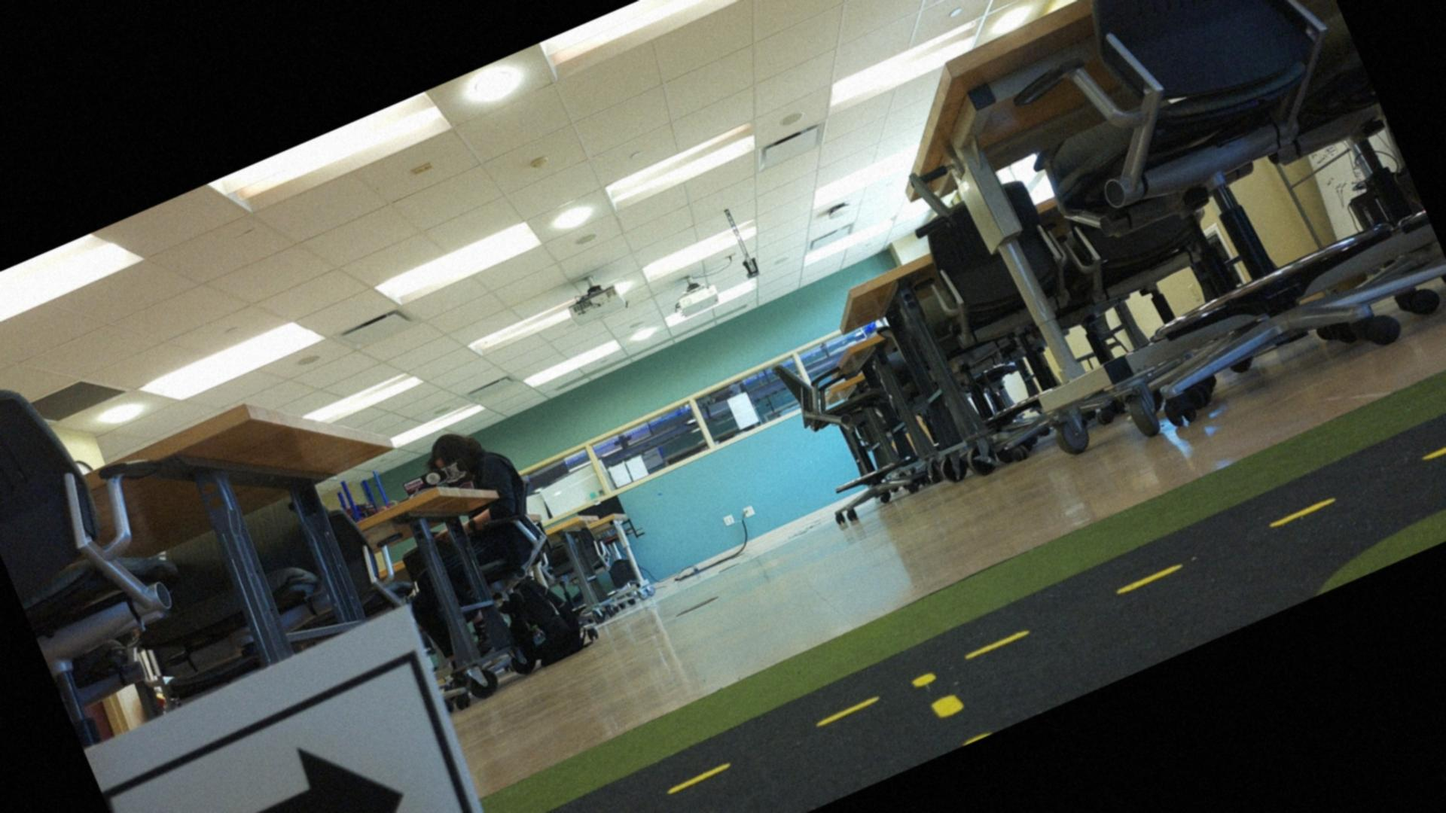turnright: (105, 668, 514, 812)
yellowline: (506, 413, 1445, 812), (910, 662, 970, 729)
